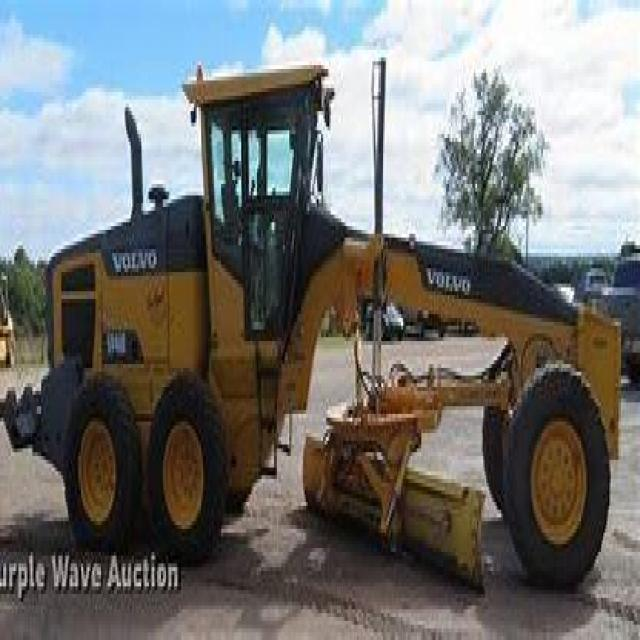Grader: (22, 38, 620, 625)
